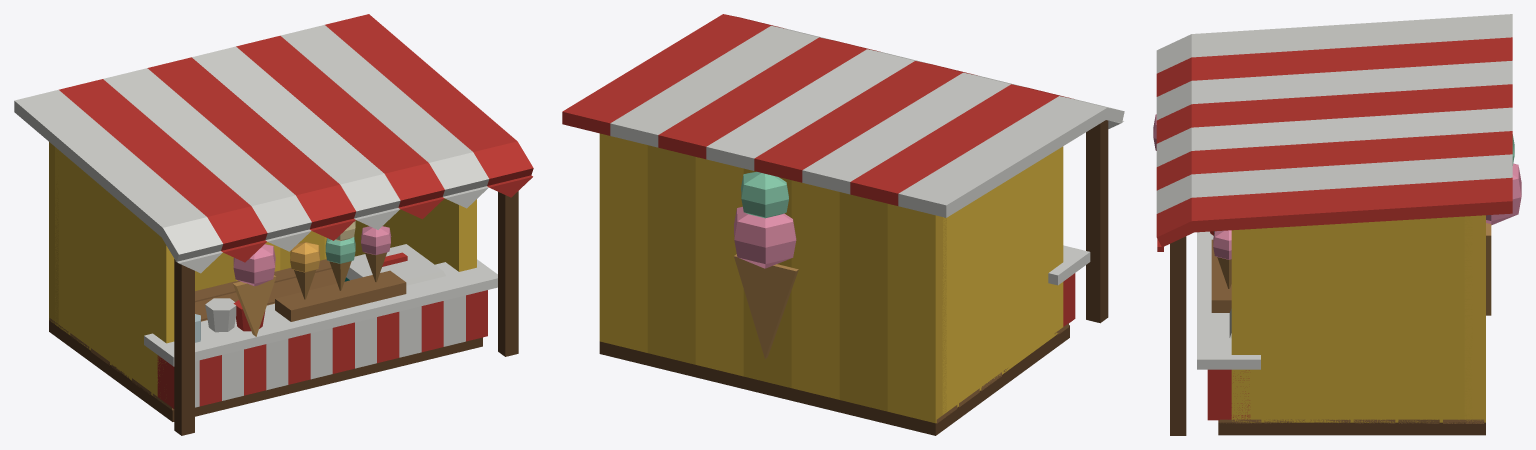
The model's file is Decor_BeachBar_Kiosk.fbx.
The picture shows the model from 3 angles, left to right: view 1: azimuth 30°, elevation 25°; view 2: azimuth 150°, elevation 25°; view 3: azimuth 270°, elevation 25°; orthographic projection. The views are drawn at different scales.
Parts seen in each view (by area): view 1: Kiosk_Body; view 2: Kiosk_Body; view 3: Kiosk_Body.
Part boxes in pixels (x1,y1,x2,y2): Kiosk_Body: [14, 14, 533, 435]; Kiosk_Body: [562, 14, 1124, 435]; Kiosk_Body: [1153, 14, 1521, 435].
Size of the model in its own units: 16 by 9.8 by 13.3.
